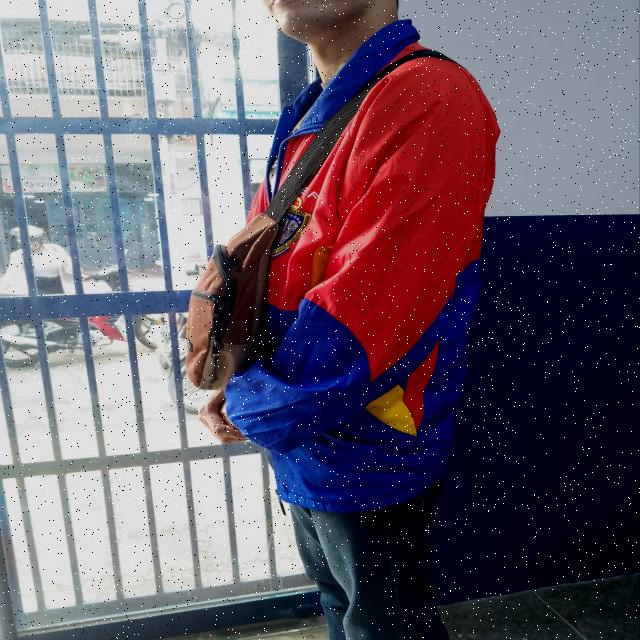chaqueta_unefa: (224, 17, 502, 516)
pantalon_oscuro: (288, 475, 450, 640)
